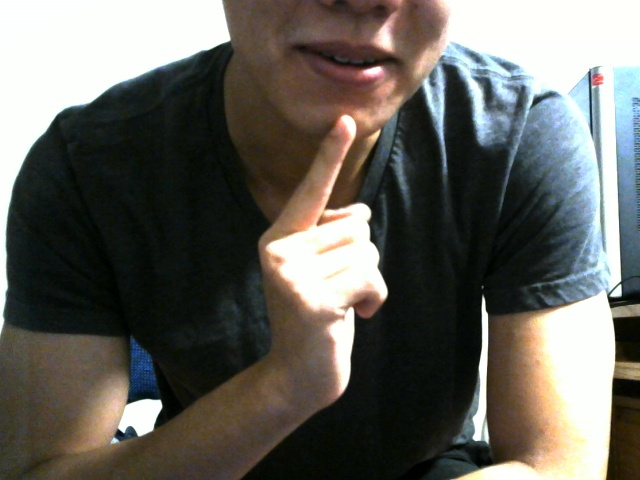deaf: (211, 86, 419, 447)
